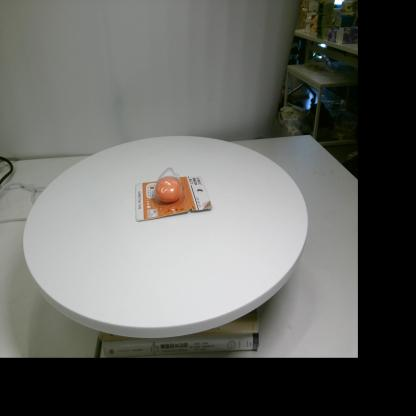Stationery: (136, 167, 212, 222)
